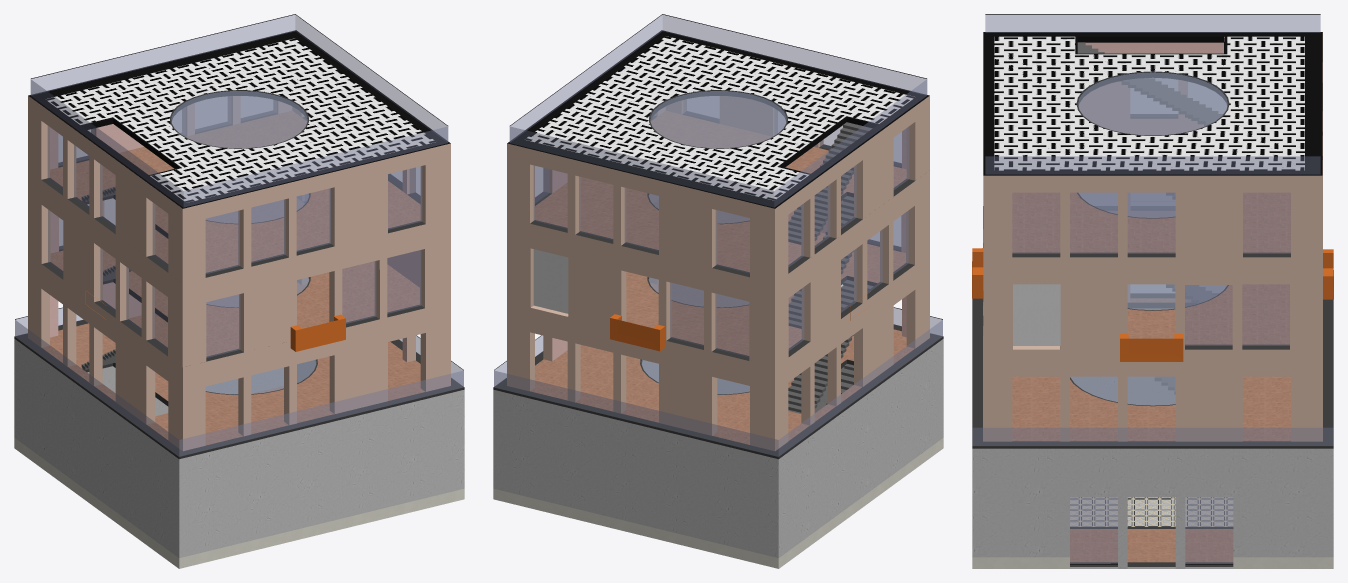
The picture shows the model from 3 angles, left to right: view 1: azimuth 30°, elevation 25°; view 2: azimuth 150°, elevation 25°; view 3: azimuth 270°, elevation 25°; orthographic projection. The views are drawn at different scales.
Visible parts, largest first — view 1: 01Floor, Roof, 02Floor, 00Floor, 00Floor.001, Roof_terrace_ballustrade.003, Roof_terrace_ballustrade, Second Floor Slab.001, First Floor Slab, Second Floor Slab.002, Roof_terrace_ballustrade.001, Dance Floor.003 (+4 smaller); view 2: 01Floor, Roof, 02Floor, 00Floor, 00Floor.001, Roof_terrace_ballustrade.003, Roof_terrace_ballustrade, Second Floor Slab.001, First Floor Slab, Roof_terrace_ballustrade.001, Dance Floor.003, Second Floor Slab.002 (+7 smaller); view 3: 01Floor, Roof, 02Floor, 00Floor, 00Floor.001, Roof_terrace_ballustrade.003, Roof_terrace_ballustrade, First Floor Slab, Ground Floor Slab, Second Floor Slab.001, Dance Floor.003, Second Floor Slab.002 (+8 smaller).
Boxes of the visible parts, <box> form: 01Floor: <box>14,319,464,568</box>; Roof: <box>28,30,450,208</box>; 02Floor: <box>28,111,450,367</box>; 00Floor: <box>28,202,450,450</box>; 00Floor.001: <box>28,96,450,283</box>; Roof_terrace_ballustrade.003: <box>48,126,421,357</box>; Roof_terrace_ballustrade: <box>30,14,448,207</box>; Second Floor Slab.001: <box>50,111,420,272</box>; First Floor Slab: <box>42,282,424,445</box>; Second Floor Slab.002: <box>50,199,419,356</box>; Roof_terrace_ballustrade.001: <box>15,307,463,456</box>; Dance Floor.003: <box>171,91,307,148</box>; 01Floor: <box>493,324,943,568</box>; Roof: <box>507,30,929,208</box>; 02Floor: <box>507,111,929,367</box>; 00Floor: <box>507,239,929,450</box>; 00Floor.001: <box>507,96,929,283</box>; Roof_terrace_ballustrade.003: <box>534,125,908,356</box>; Roof_terrace_ballustrade: <box>509,14,927,207</box>; Second Floor Slab.001: <box>535,111,906,272</box>; First Floor Slab: <box>530,283,914,444</box>; Roof_terrace_ballustrade.001: <box>494,307,942,456</box>; Dance Floor.003: <box>650,91,786,148</box>; Second Floor Slab.002: <box>626,200,905,355</box>; 01Floor: <box>972,294,1333,568</box>; Roof: <box>983,32,1322,175</box>; 02Floor: <box>983,114,1322,349</box>; 00Floor: <box>983,206,1322,441</box>; 00Floor.001: <box>983,32,1322,257</box>; Roof_terrace_ballustrade.003: <box>1012,192,1290,345</box>; Roof_terrace_ballustrade: <box>985,14,1320,174</box>; First Floor Slab: <box>1012,298,1290,441</box>; Ground Floor Slab: <box>1070,497,1233,568</box>; Second Floor Slab.001: <box>1012,192,1290,252</box>; Dance Floor.003: <box>1078,72,1227,135</box>; Second Floor Slab.002: <box>1127,284,1289,344</box>.
Size of what is drawn, in the model's own units: 16.02 by 19.93 by 16.02.
19 materials, 7 textured.
